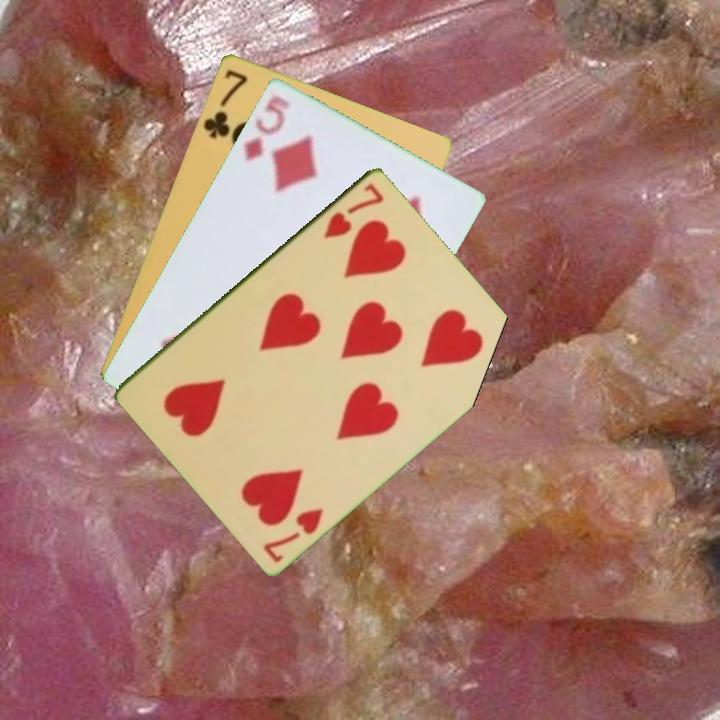5d: (240, 91, 293, 164)
7c: (199, 65, 251, 141)
7h: (259, 503, 326, 566), (319, 179, 387, 241)
